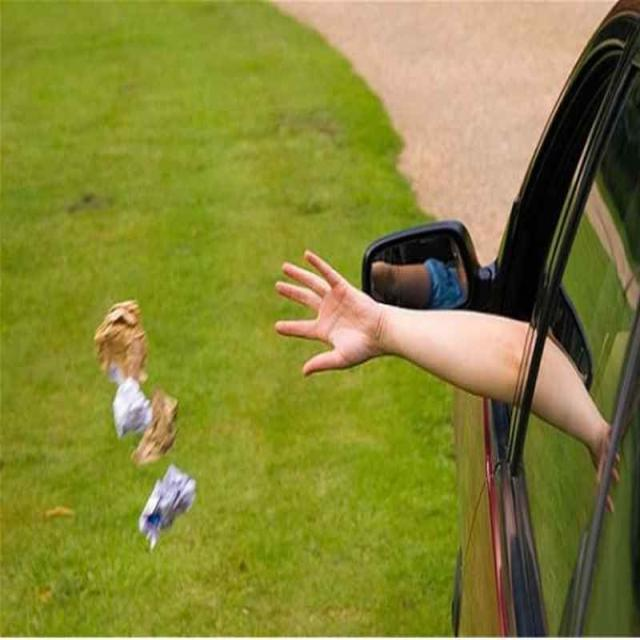sampah-detection: (89, 298, 199, 554)
